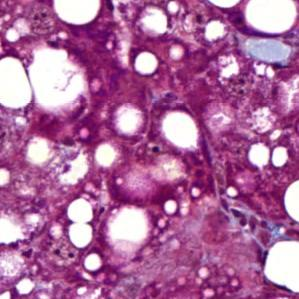steatosis: (32, 47, 85, 114), (106, 203, 151, 246), (161, 108, 205, 150), (62, 197, 96, 250), (244, 0, 298, 32), (0, 59, 31, 107), (246, 138, 271, 170), (94, 141, 118, 170)
